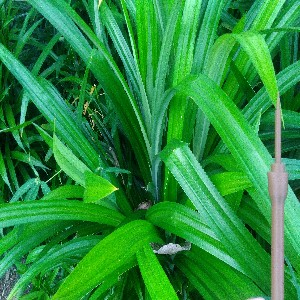solder: (266, 87, 289, 300)
